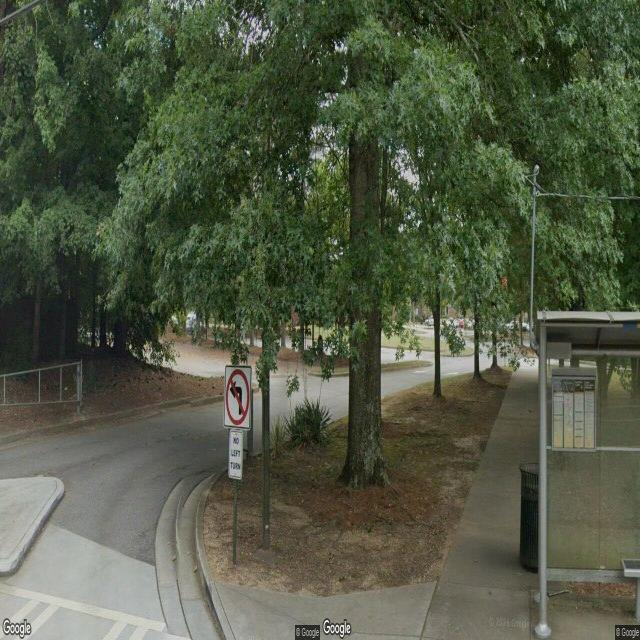seating: (621, 554, 640, 633)
shelter: (534, 309, 640, 640)
trash_can: (519, 460, 539, 572)
